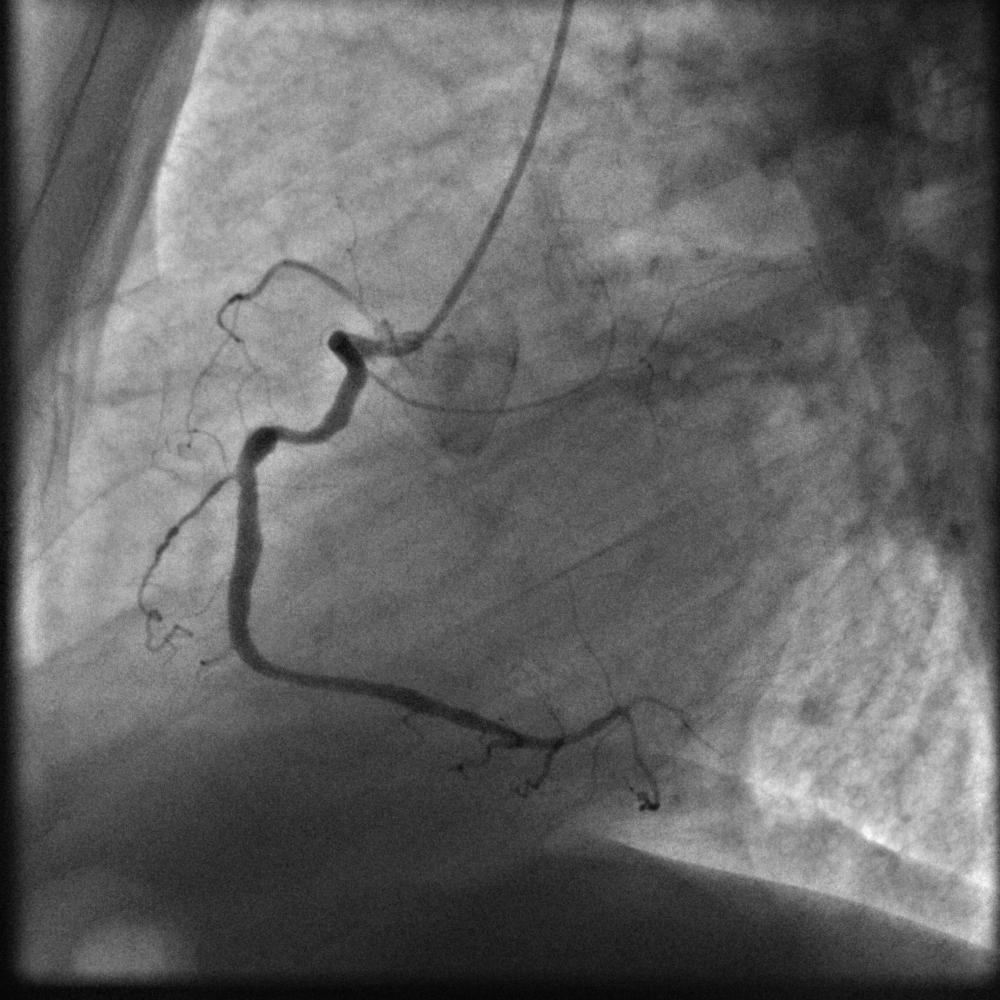Stenosis: (267, 420, 304, 447)
